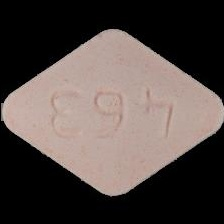54868-5921: (0, 0, 224, 224)
